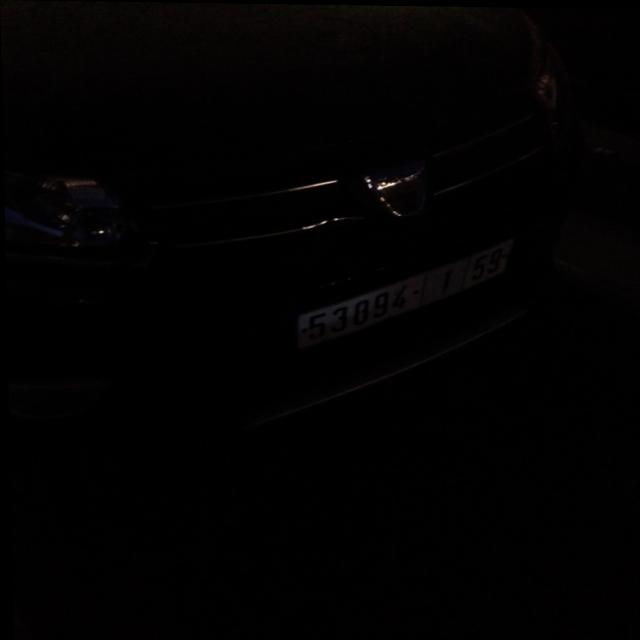License-Plate: (295, 238, 512, 347)
